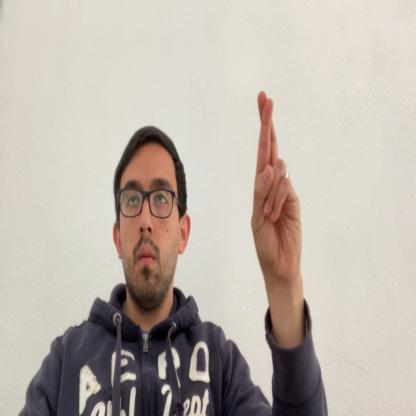R: (251, 90, 304, 284)
